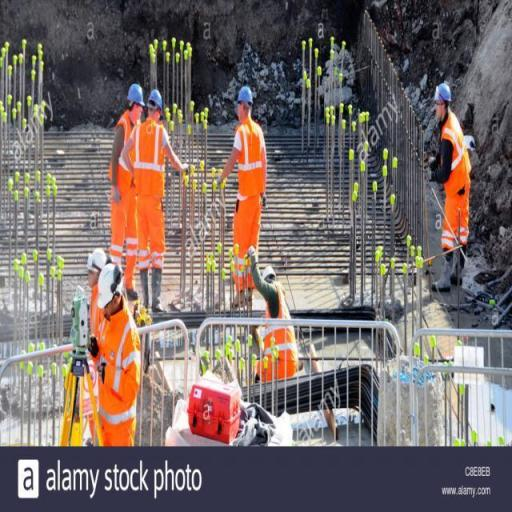Person: (200, 78, 284, 274), (124, 66, 192, 304), (73, 244, 152, 447), (222, 236, 302, 401), (419, 70, 475, 303), (106, 72, 155, 292)
helmet: (93, 258, 130, 315), (427, 73, 458, 109), (228, 79, 258, 108), (253, 257, 282, 284), (86, 241, 110, 273), (146, 86, 171, 116), (122, 79, 144, 105)
vest: (86, 311, 139, 435), (252, 286, 303, 383), (226, 118, 268, 208), (130, 118, 172, 204), (436, 109, 476, 199), (110, 112, 140, 194)
